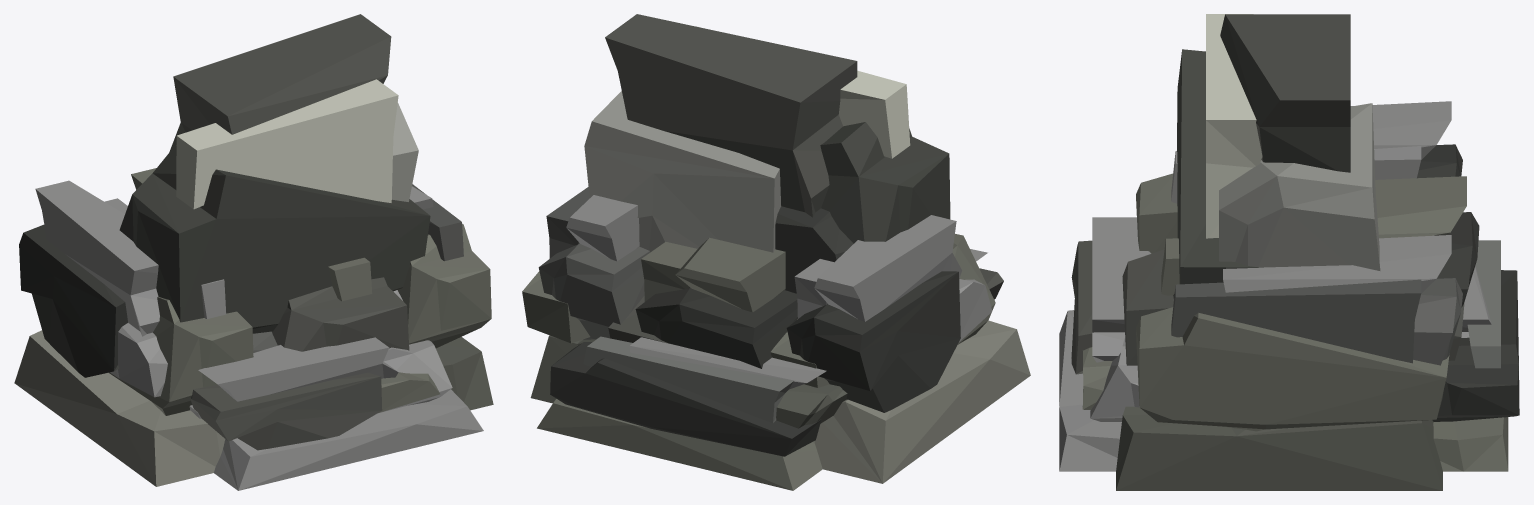
File: DD_Rock03.fbx
3 renders of one model, left to right at view 1: azimuth 30°, elevation 25°; view 2: azimuth 150°, elevation 25°; view 3: azimuth 270°, elevation 25°, orthographic. The views are drawn at different scales.
Parts seen in each view (by area): view 1: DD_Rock03; view 2: DD_Rock03; view 3: DD_Rock03.
Part boxes in pixels (x1=…): DD_Rock03: x1=14, y1=14, x2=493, y2=490; DD_Rock03: x1=522, y1=14, x2=1030, y2=490; DD_Rock03: x1=1059, y1=14, x2=1519, y2=490.
Size of the model in its own units: 195 by 175 by 195.
Materials: 1 (1 with a texture image).
